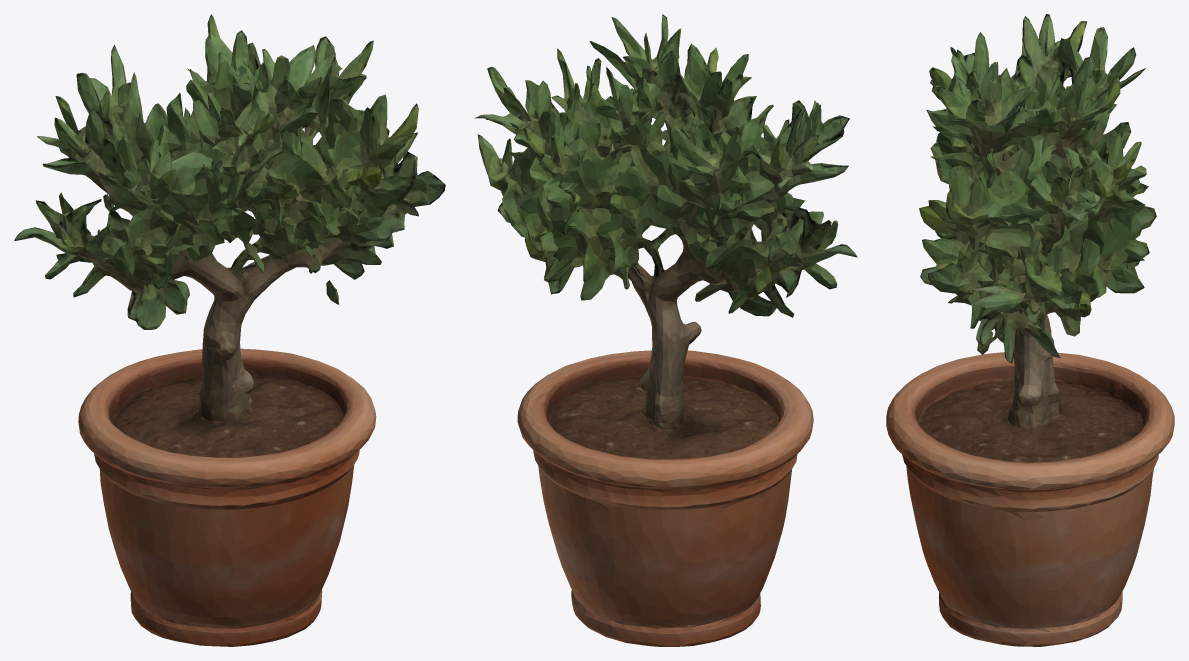
File: olive.glb
3 renders of one model, left to right at view 1: azimuth 30°, elevation 25°; view 2: azimuth 150°, elevation 25°; view 3: azimuth 270°, elevation 25°, orthographic.
Visible parts, largest first — view 1: geometry_0; view 2: geometry_0; view 3: geometry_0.
Part boxes in pixels (x1,y1,x2,y2): geometry_0: (14, 14, 445, 646); geometry_0: (474, 14, 857, 646); geometry_0: (886, 14, 1174, 646).
Bounding box in the file's own units: 0.7389 × 1 × 0.4757.
1 material, 1 textured.
